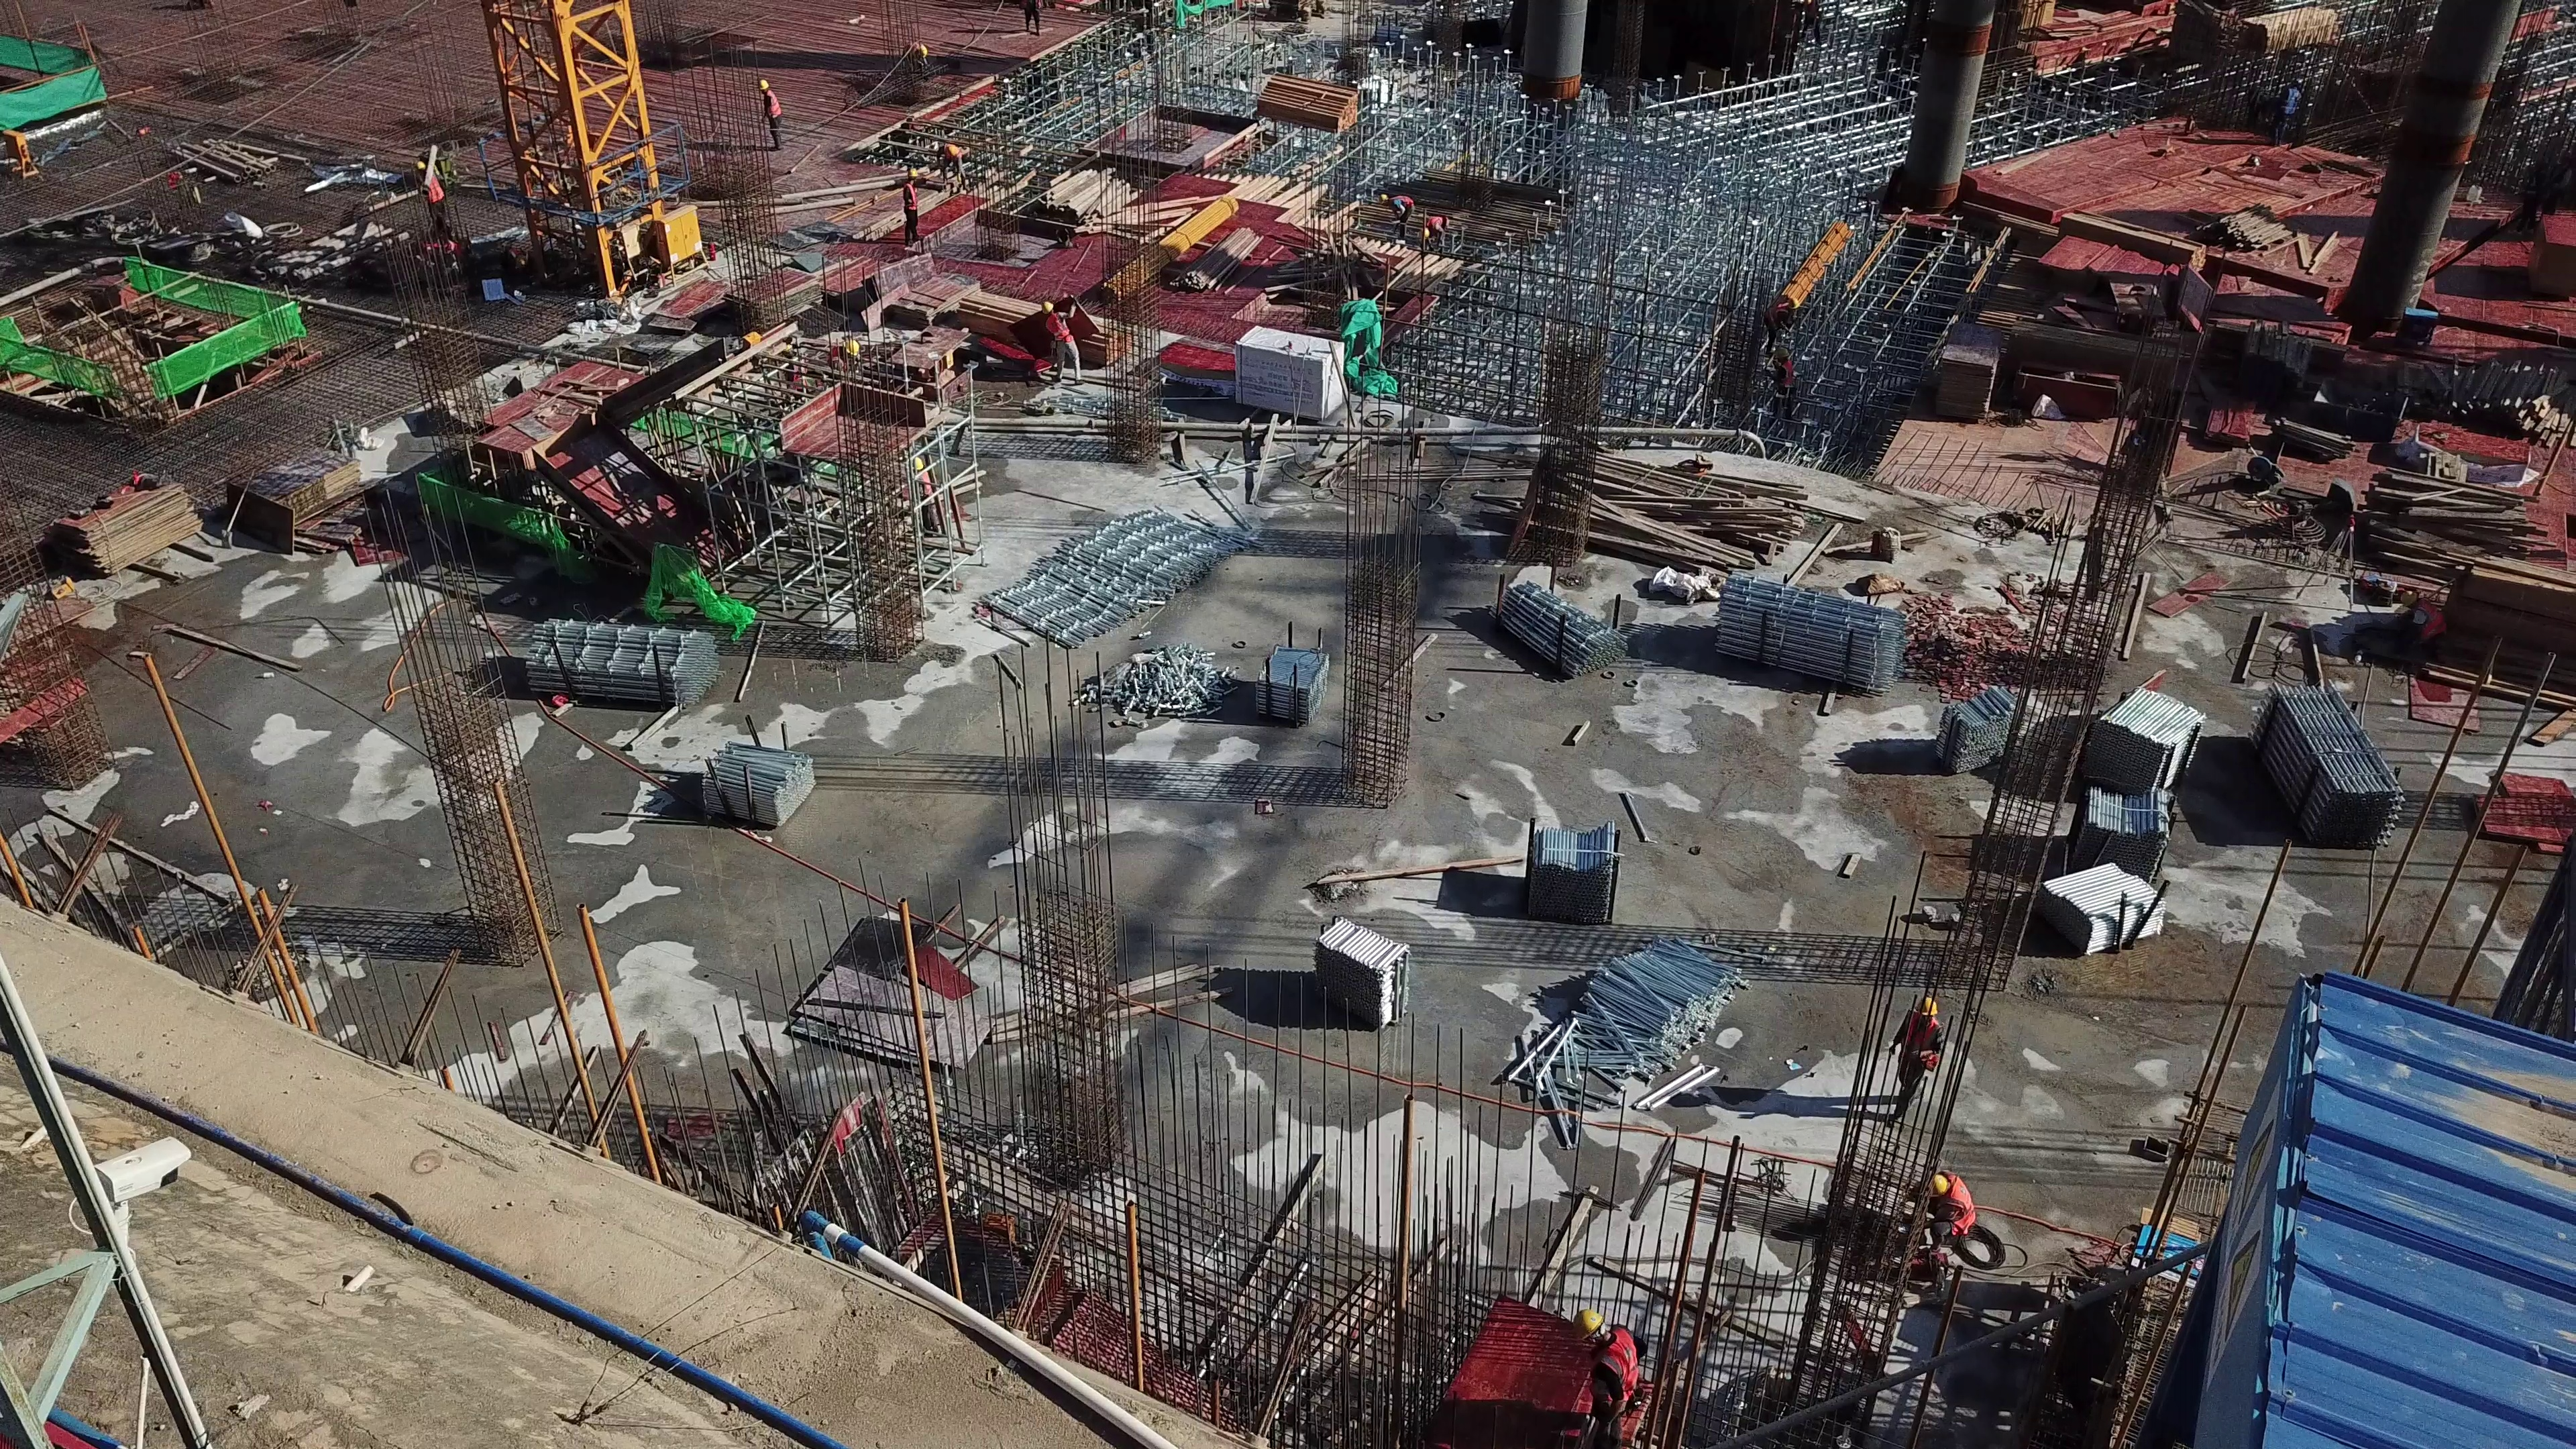board: (44, 492, 191, 580), (227, 451, 362, 538), (1930, 310, 2001, 424)
ebox: (650, 198, 702, 283)
helmet: (1572, 1284, 1610, 1348)
person: (1569, 1296, 1651, 1445), (1896, 989, 1945, 1132), (1919, 1159, 1983, 1258), (1032, 296, 1081, 381), (408, 150, 458, 231), (2384, 588, 2444, 657), (761, 74, 796, 158), (892, 167, 924, 255), (1377, 192, 1420, 251), (924, 136, 965, 195), (1411, 205, 1453, 265)
scaffold: (968, 491, 1236, 651), (1525, 911, 1712, 1106), (2269, 663, 2409, 867), (516, 593, 717, 716), (1712, 573, 1892, 704), (1485, 576, 1624, 692), (2041, 858, 2176, 957), (1303, 910, 1401, 1039), (2088, 680, 2196, 789), (700, 739, 818, 830), (1533, 820, 1621, 910), (2075, 796, 2173, 876)
wood: (2361, 468, 2576, 695), (1487, 444, 1829, 580), (2383, 354, 2576, 446), (2006, 307, 2196, 384), (946, 290, 1126, 363), (1032, 160, 1171, 231), (2214, 205, 2346, 274), (2241, 317, 2319, 394), (2240, 1, 2338, 64), (1252, 79, 1357, 136)
